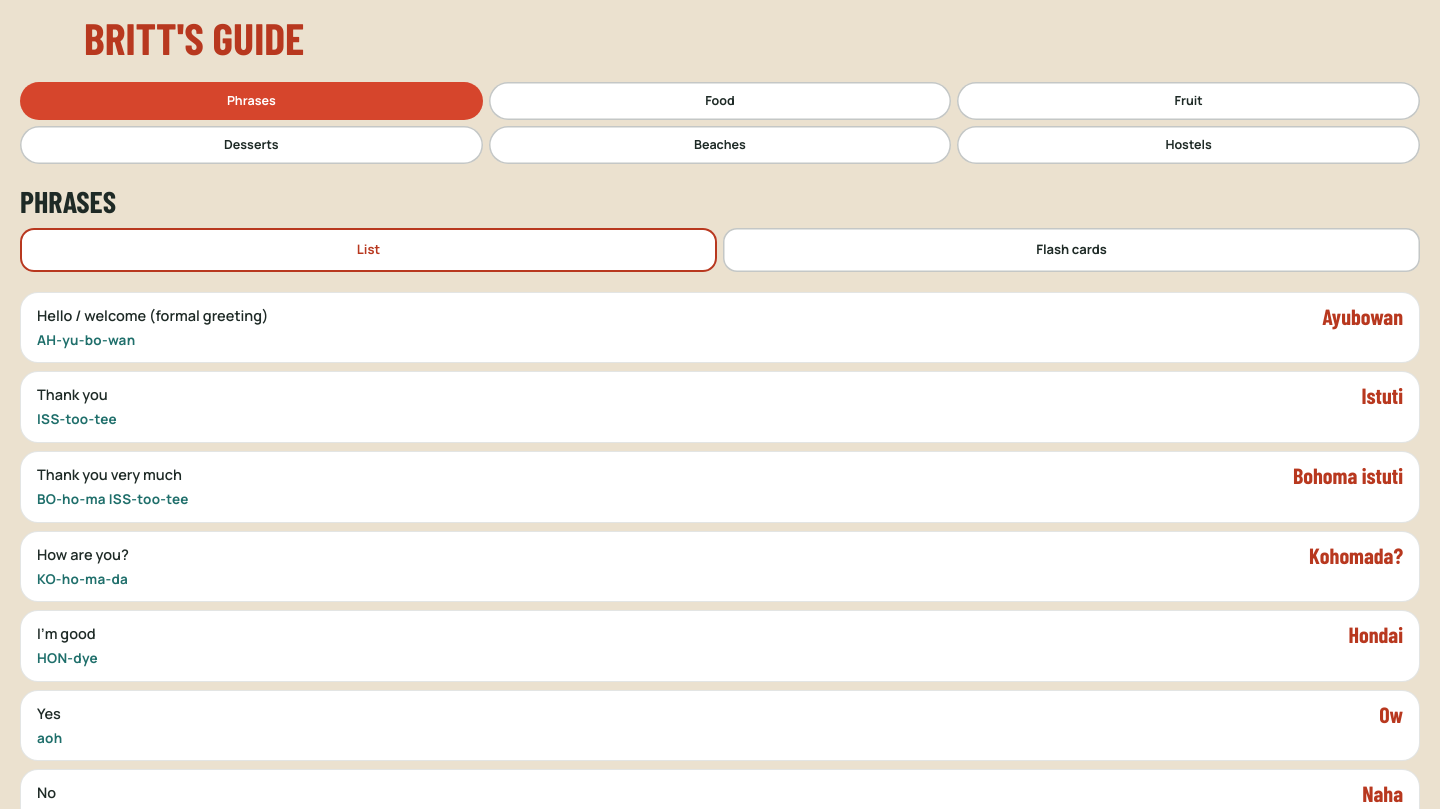
Test: Guide Hostels section › says there are no hostels at Udawalawe, guesthouses only
The width and height of the screenshot is (1440, 809).
Click the button "Hostels".
click(1189, 145)  # box [957, 126, 1420, 164]
(page scrolled)
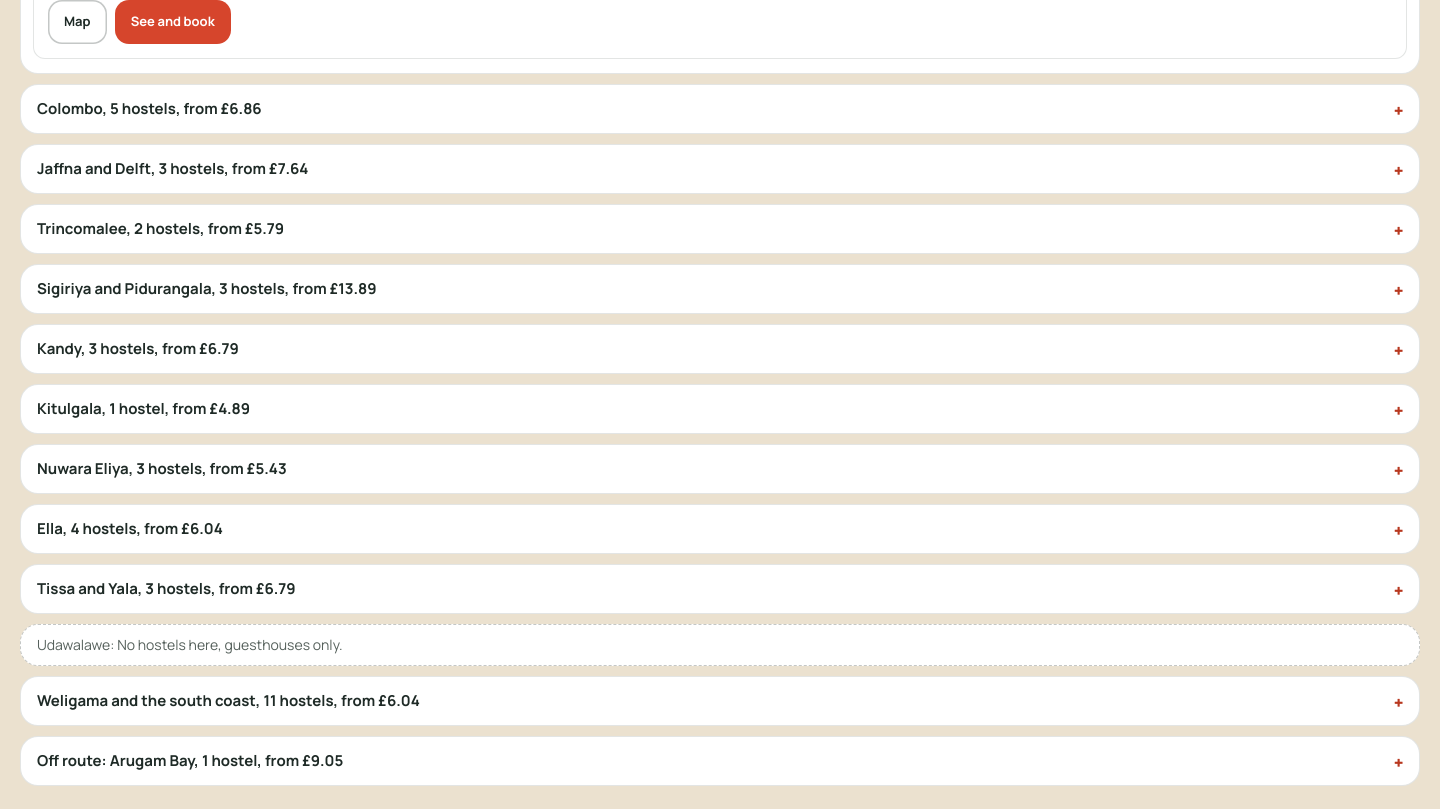
Check: the text "Udawalawe: No hostels here, guesthouses only." is shown, box [20, 624, 1420, 666]
